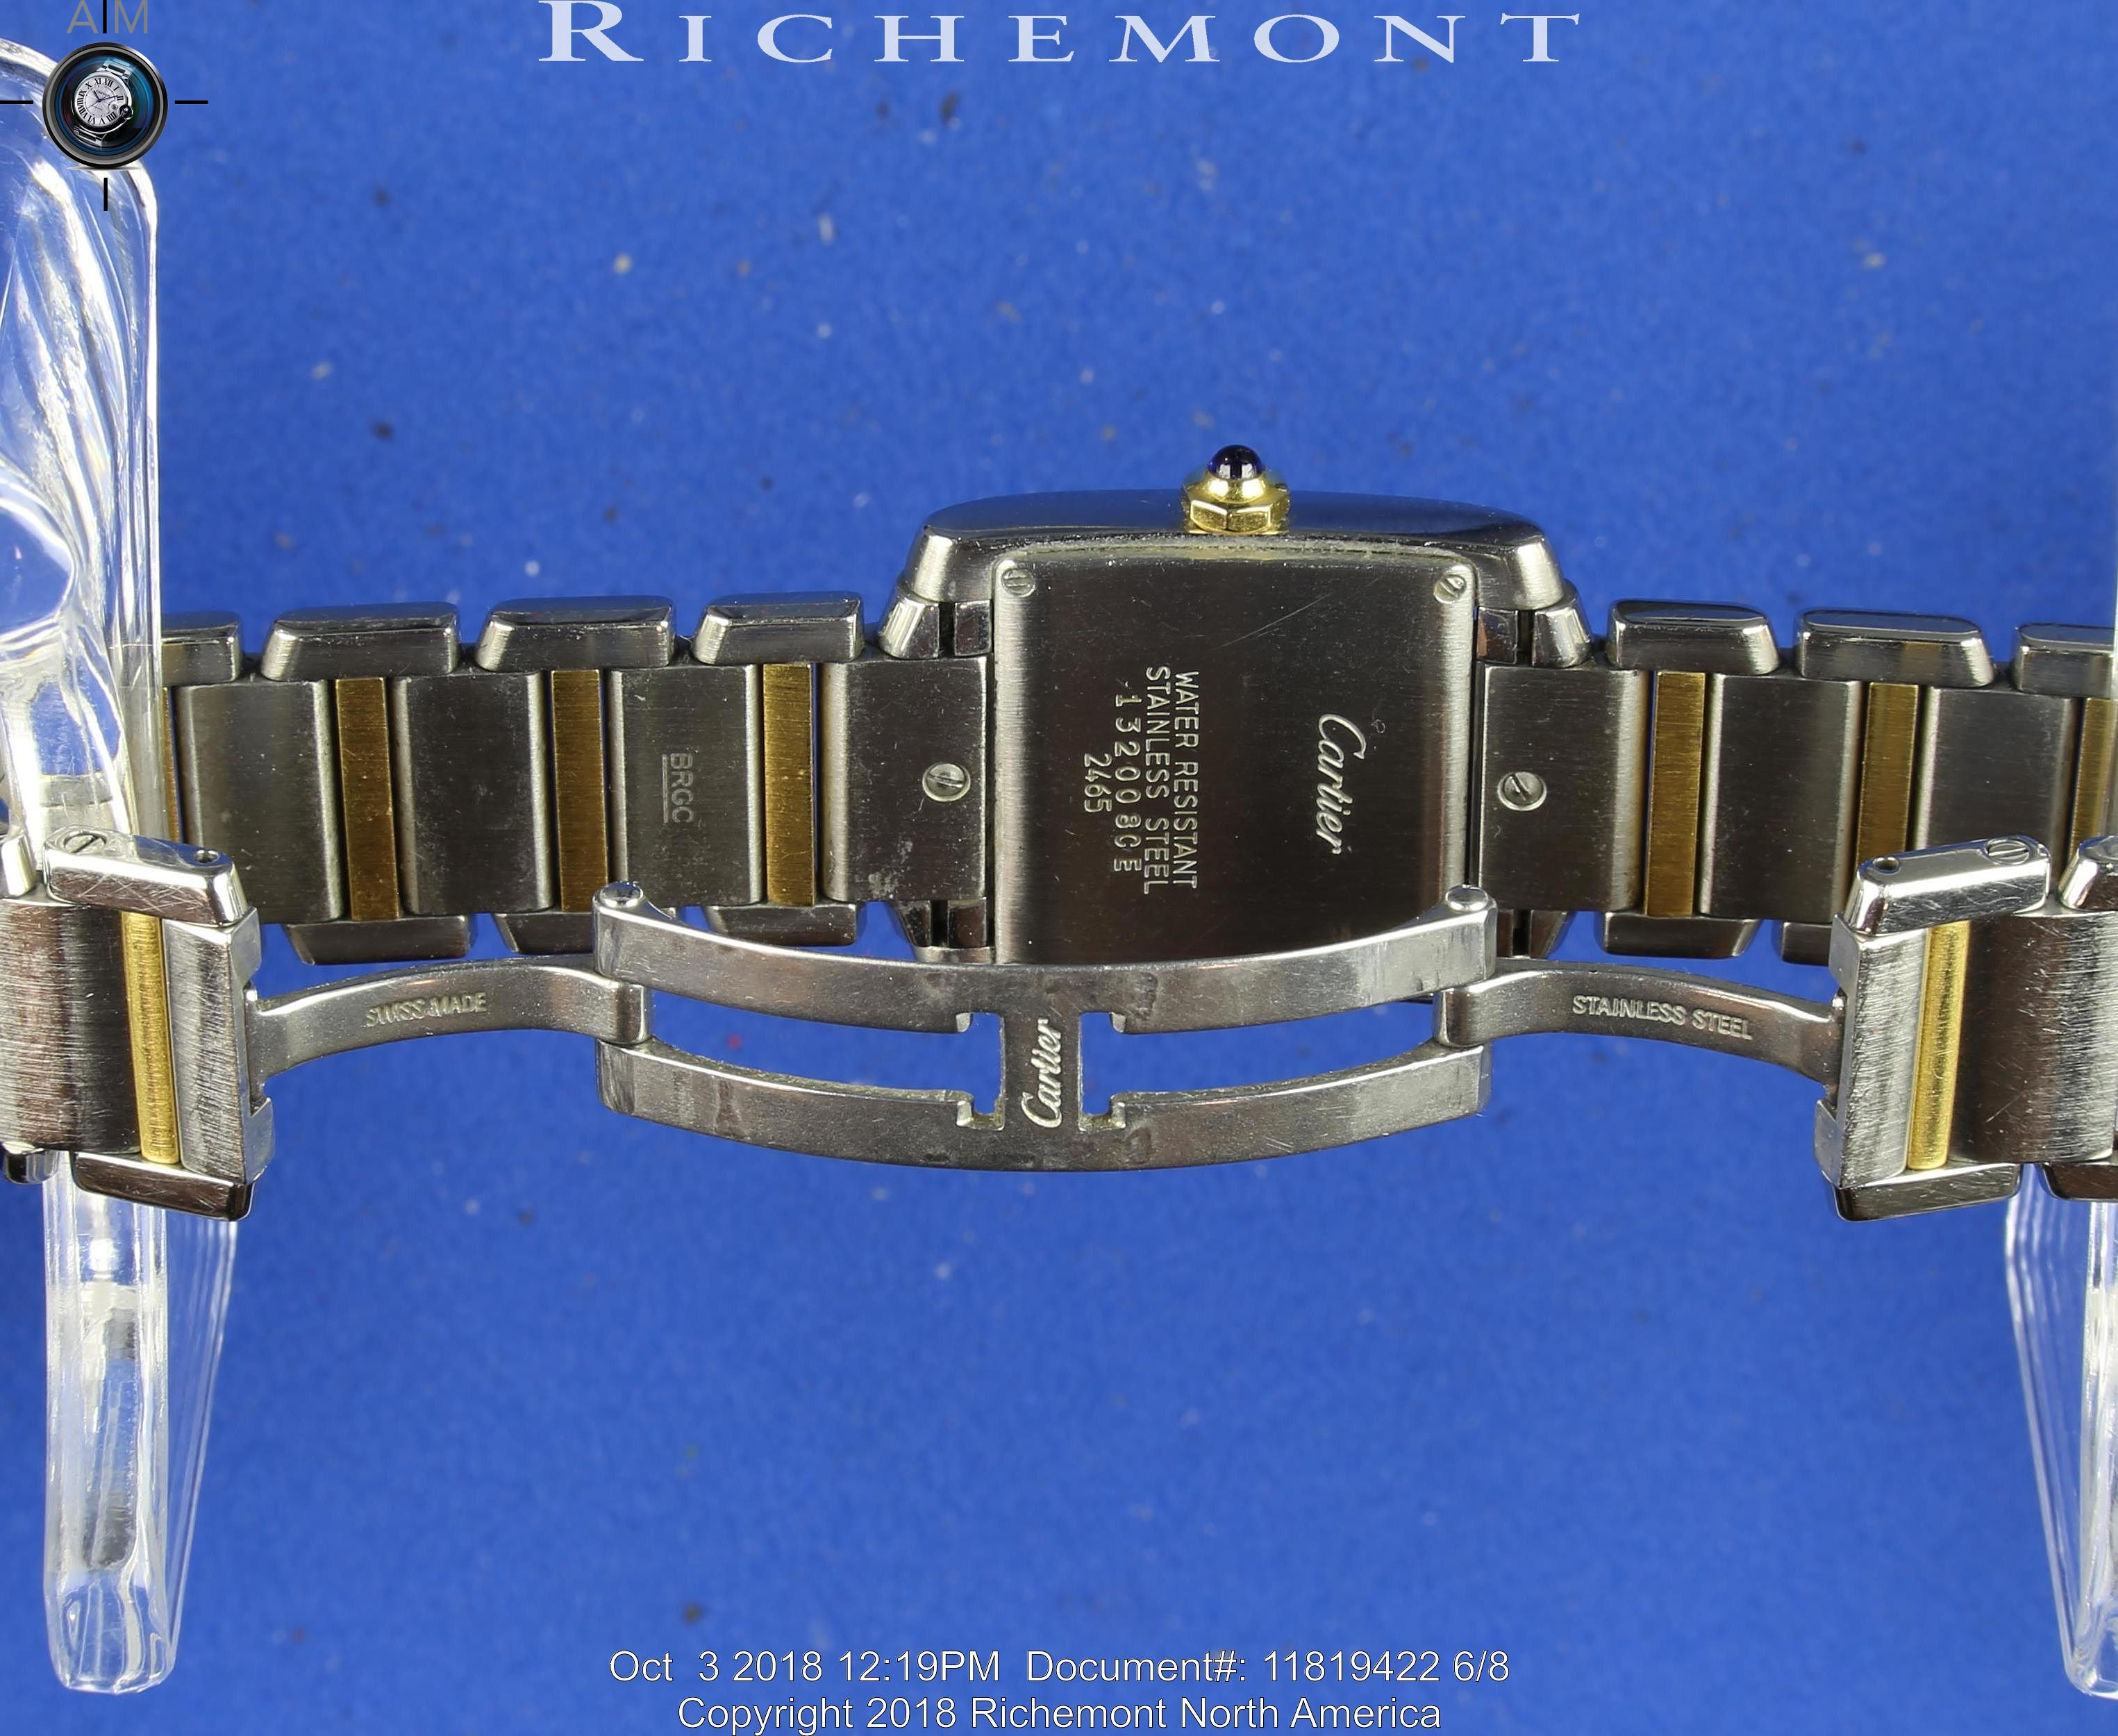watchback: (894, 508, 1608, 1045)
